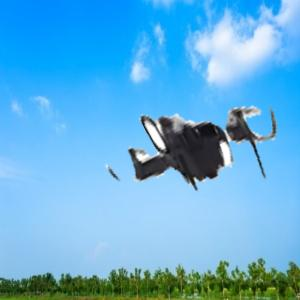drone: (92, 41, 286, 235)
